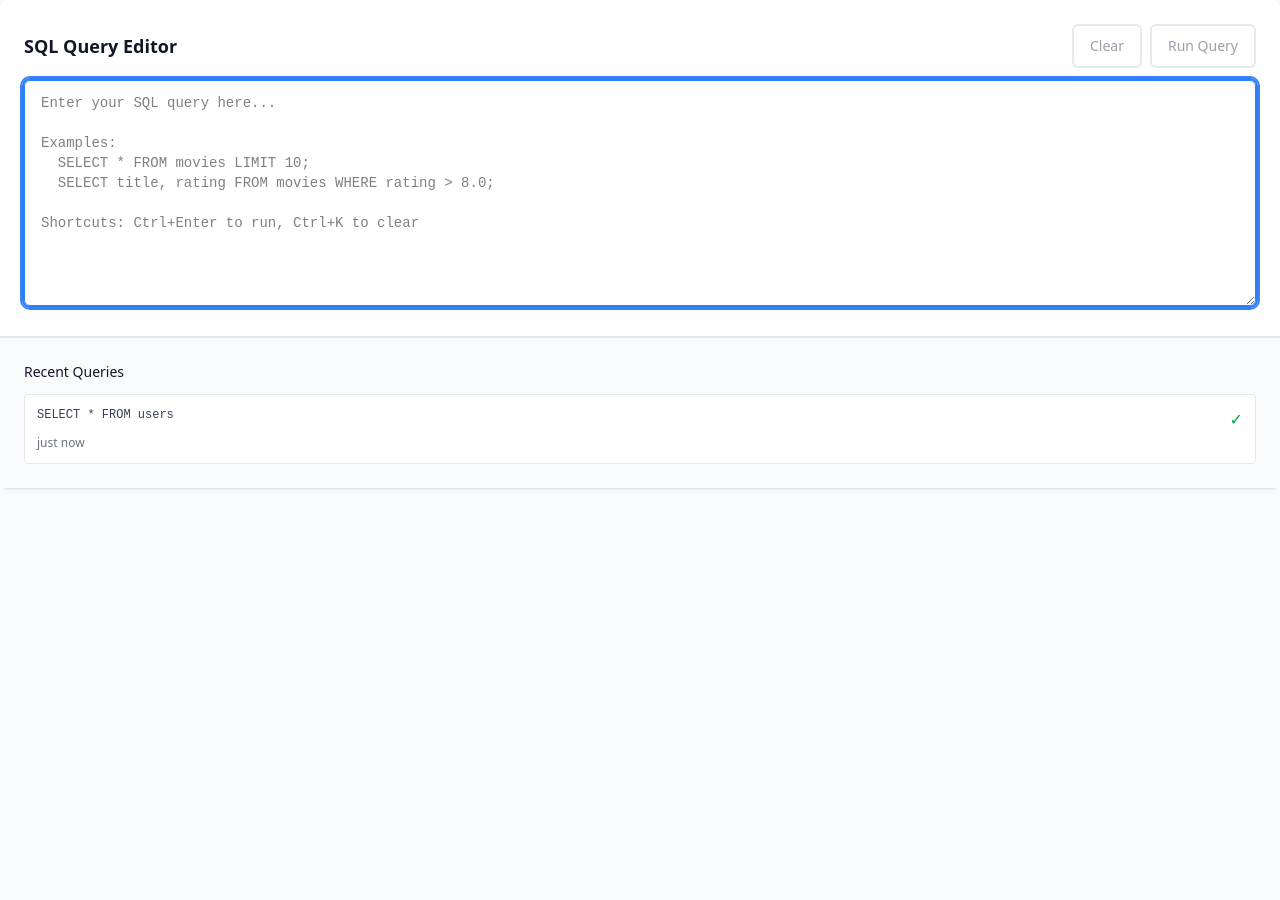
it: QueryEditor › Query Execution › displays results table with correct data
In the text box named "sql query input": (640, 193) [24,80,1256,306], type "SELECT * FROM users"
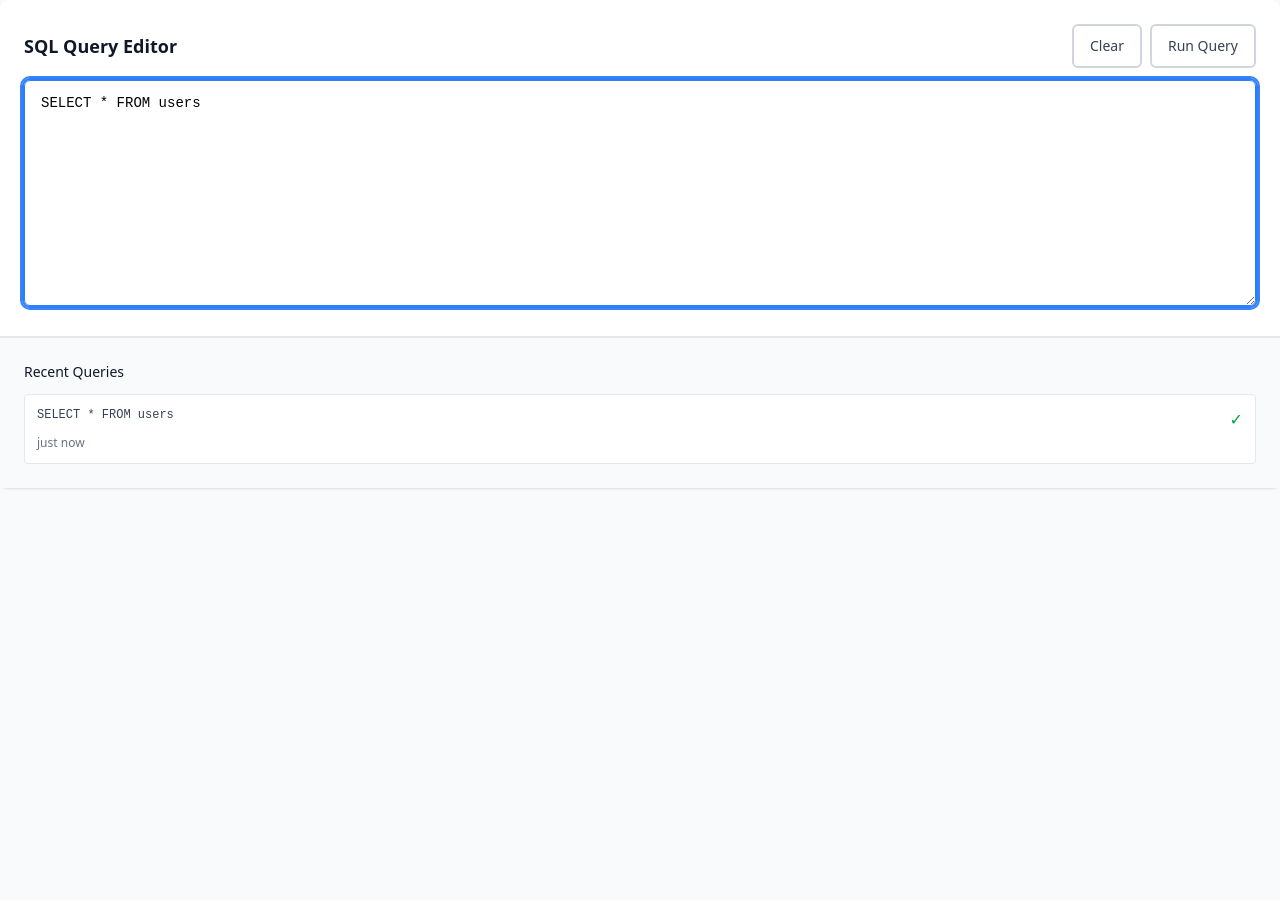
Click the button "Run Query": (1203, 46) [1150,24,1256,68]
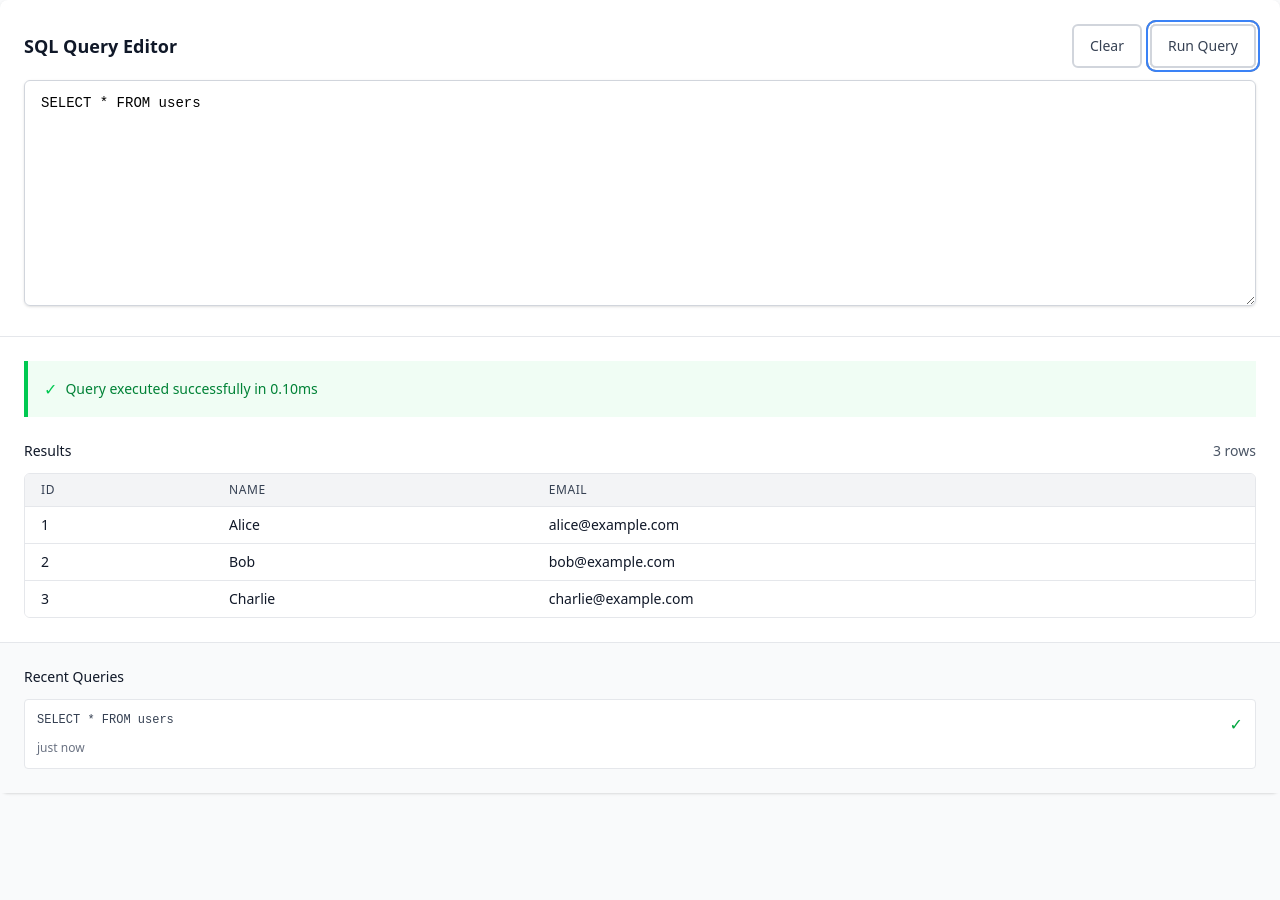
Now the heading "Results" is shown, box [24,441,71,461]
Now the text "3 rows" is shown, box [1213,441,1256,461]
Now the text "Alice" is shown, box [213,506,533,544]
